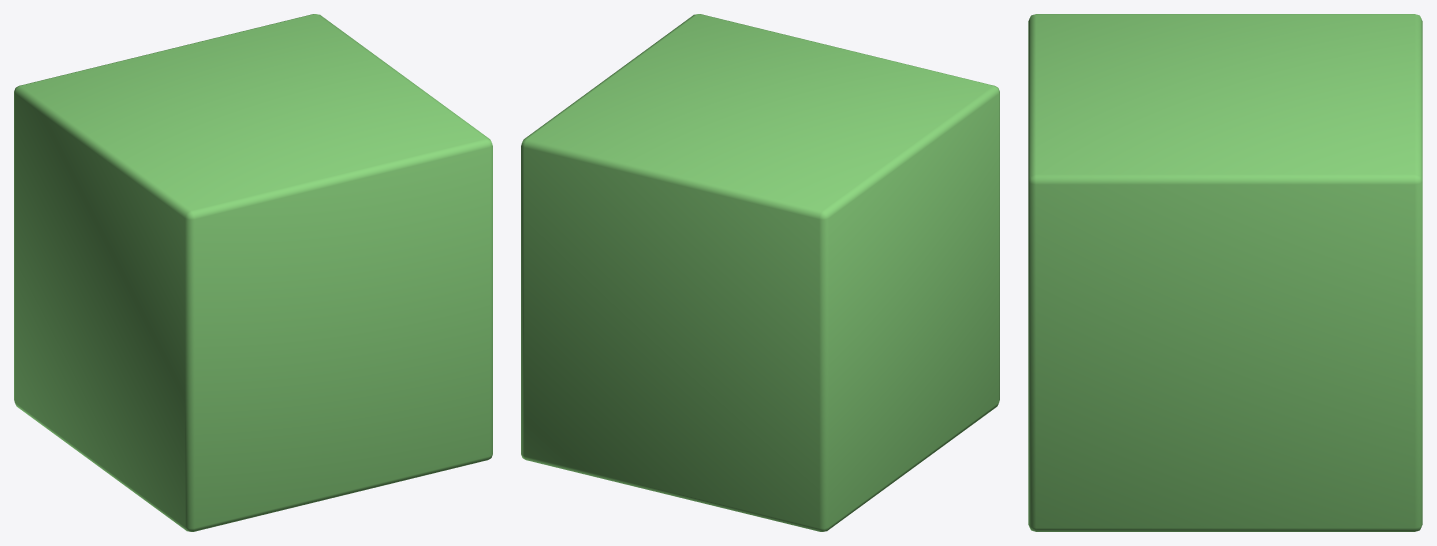
Rendered from grass.glb.
The picture shows the model from 3 angles, left to right: view 1: azimuth 30°, elevation 25°; view 2: azimuth 150°, elevation 25°; view 3: azimuth 270°, elevation 25°; orthographic projection. The views are drawn at different scales.
Visible parts, largest first — view 1: grass; view 2: grass; view 3: grass.
Part boxes in pixels (x1,y1,x2,y2): grass: [14, 14, 492, 531]; grass: [521, 14, 999, 531]; grass: [1028, 14, 1422, 531].
Size of the model in its own units: 1 by 1 by 1.
